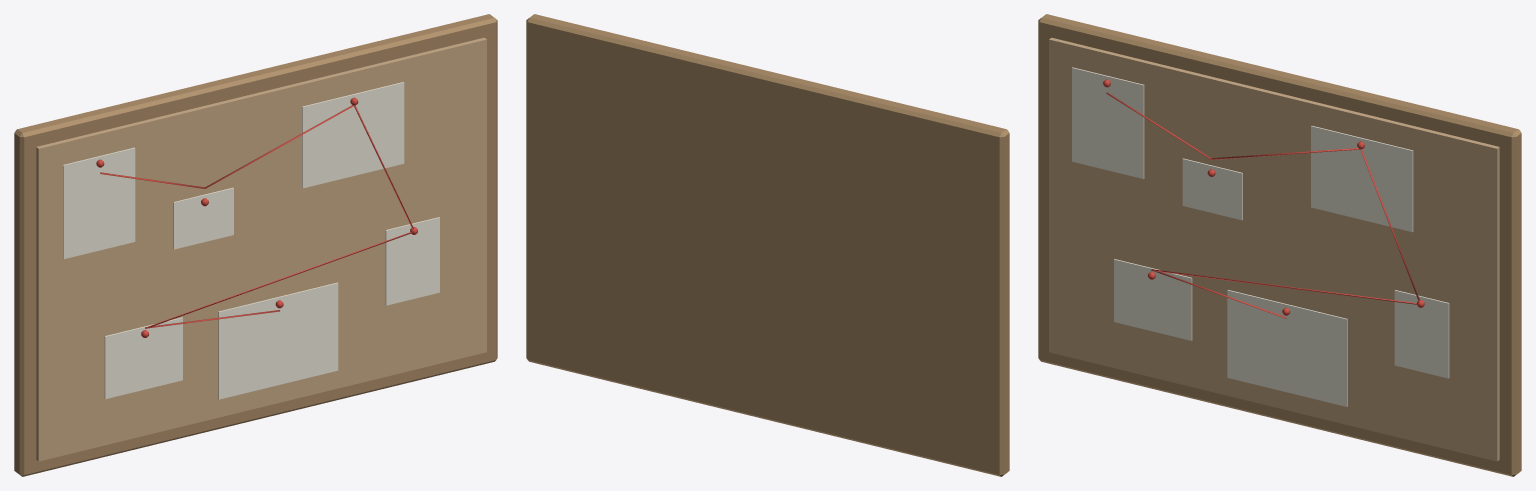
The model's file is pin_board.glb.
3 renders of one model, left to right at view 1: azimuth 30°, elevation 25°; view 2: azimuth 150°, elevation 25°; view 3: azimuth 330°, elevation 25°, orthographic.
Visible parts, largest first — view 1: pin_board; view 2: pin_board; view 3: pin_board.
Part boxes in pixels (left/top/right/bottom): pin_board: left=14, top=14, right=497, bottom=476; pin_board: left=526, top=14, right=1009, bottom=476; pin_board: left=1038, top=14, right=1521, bottom=476.
Bounding box in the file's own units: 1.6 × 1.1 × 0.087.
